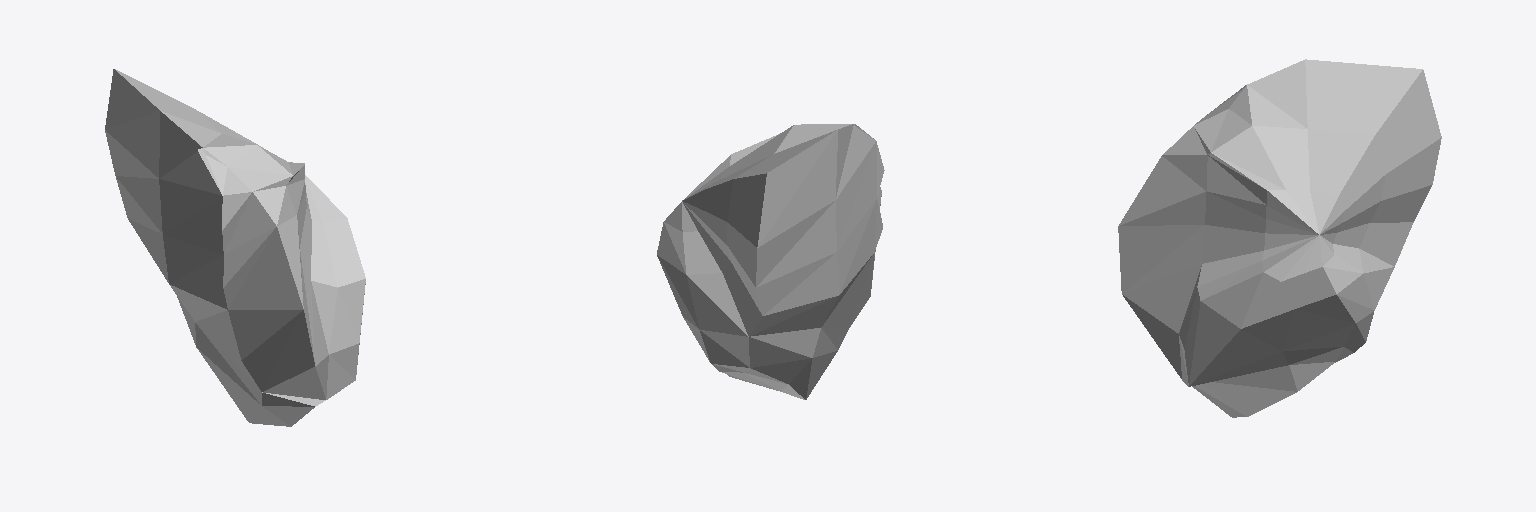
Rendered from spinosaurusRightThighOfficial.obj.
3 views of the same model, side by side, from view 1: azimuth 30°, elevation 25°; view 2: azimuth 150°, elevation 25°; view 3: azimuth 270°, elevation 25° (orthographic).
Parts seen in each view (by area): view 1: LeftHamstring_Cube.001; view 2: LeftHamstring_Cube.001; view 3: LeftHamstring_Cube.001.
Part boxes in pixels (left/top/right/bottom): LeftHamstring_Cube.001: left=105, top=69, right=365, bottom=426; LeftHamstring_Cube.001: left=657, top=124, right=884, bottom=399; LeftHamstring_Cube.001: left=1118, top=59, right=1441, bottom=417.
Bounding box in the file's own units: 0.8427 × 1.51 × 1.42.